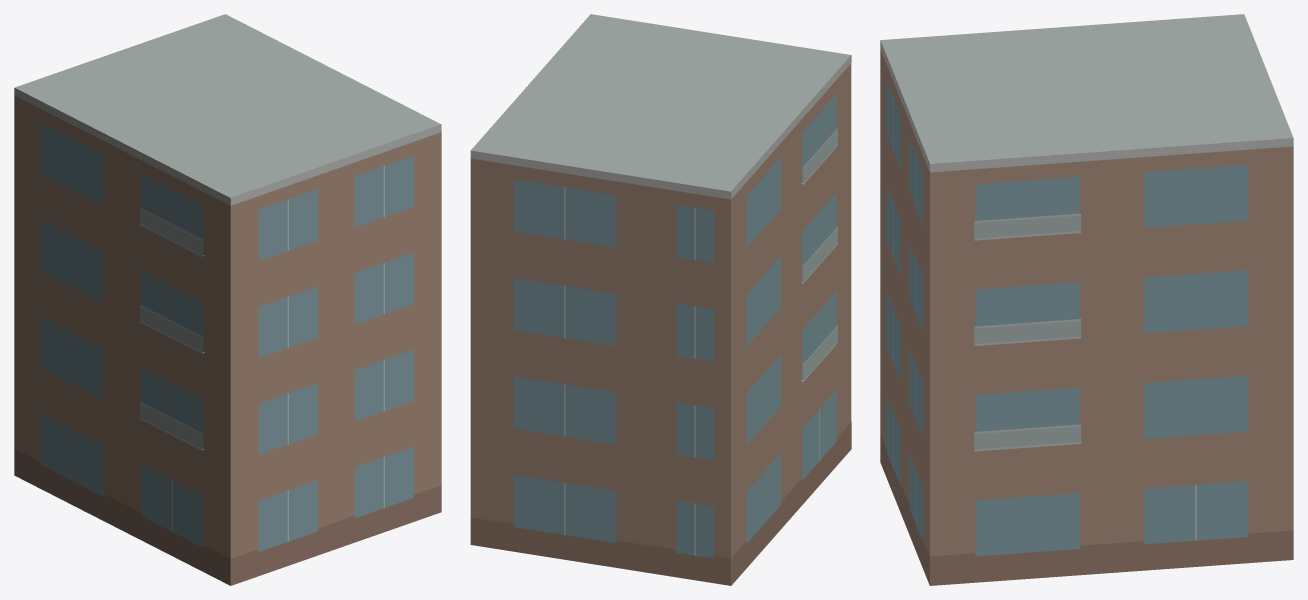
File: residential-84406d7e-0705-4e8d-8056-b339282f6bcb.glb
3 views of the same model, side by side, from view 1: azimuth 30°, elevation 25°; view 2: azimuth 150°, elevation 25°; view 3: azimuth 270°, elevation 25° (orthographic). The views are drawn at different scales.
Parts seen in each view (by area): view 1: residential-84406d7e-0705-4e8d-8056-b339282f6bcb.tmp; view 2: residential-84406d7e-0705-4e8d-8056-b339282f6bcb.tmp; view 3: residential-84406d7e-0705-4e8d-8056-b339282f6bcb.tmp.
Boxes of the visible parts, x1,y1,x2,y2 form: residential-84406d7e-0705-4e8d-8056-b339282f6bcb.tmp: (14,14,441,585); residential-84406d7e-0705-4e8d-8056-b339282f6bcb.tmp: (470,14,851,585); residential-84406d7e-0705-4e8d-8056-b339282f6bcb.tmp: (880,14,1293,585).
Bounding box in the file's own units: 9.32 × 12.2 × 10.84.
